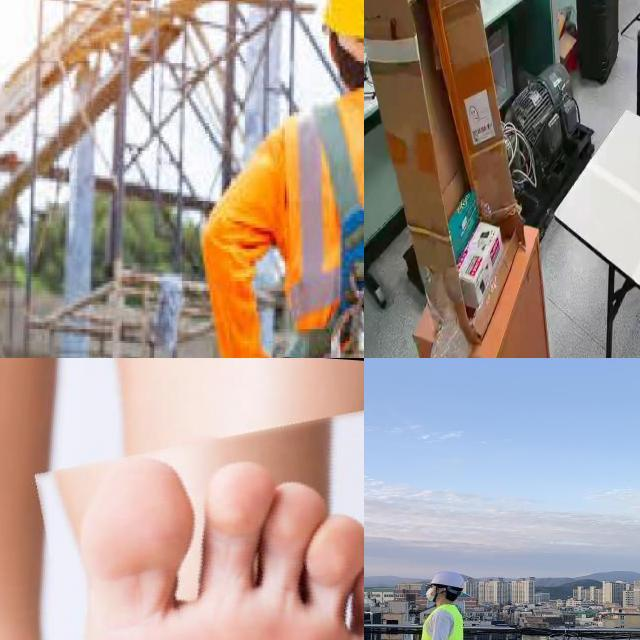Barefoots: (32, 402, 364, 640)
Harness: (278, 106, 364, 358)
head_helmet: (426, 571, 465, 589)
person: (393, 569, 510, 640)
vest: (415, 605, 465, 640)
